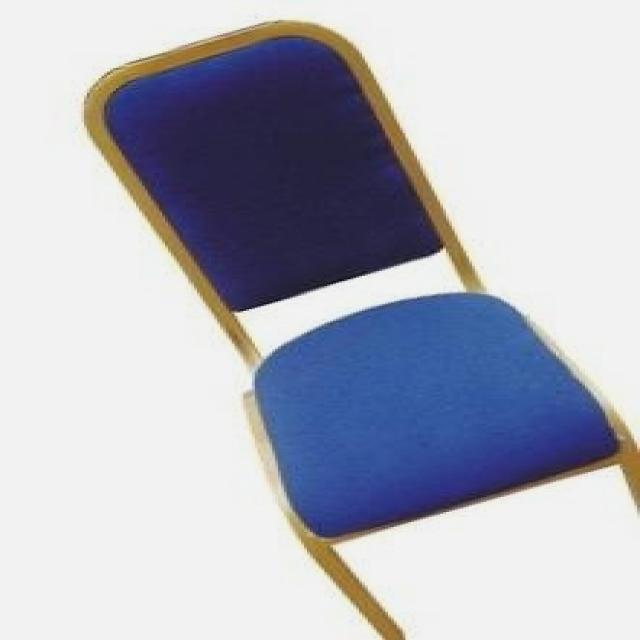Chair: (79, 17, 640, 640)
